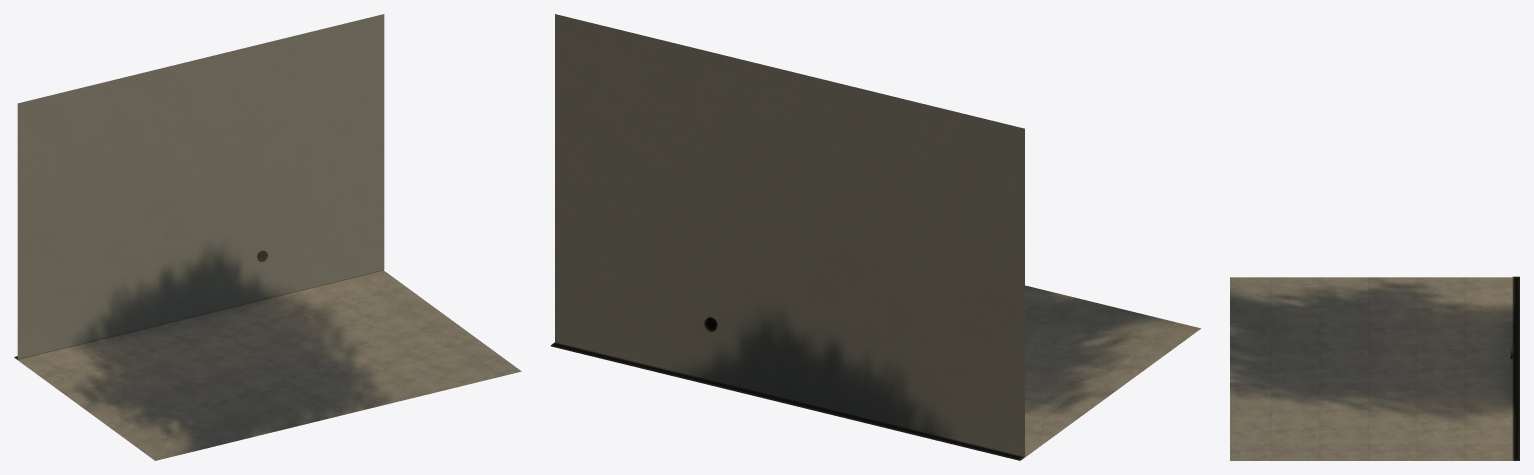
The model's file is Prova_export_6_circle_giorno.glb.
The picture shows the model from 3 angles, left to right: view 1: azimuth 30°, elevation 25°; view 2: azimuth 150°, elevation 25°; view 3: azimuth 270°, elevation 25°; orthographic projection. The views are drawn at different scales.
Visible parts, largest first — view 1: Muro, Pavimento; view 2: Muro, Pavimento; view 3: Pavimento, Muro.
Part boxes in pixels (bbox=[...]): Muro: bbox=[14, 14, 384, 359]; Pavimento: bbox=[14, 270, 521, 460]; Muro: bbox=[550, 14, 1024, 459]; Pavimento: bbox=[551, 285, 1200, 460]; Pavimento: bbox=[1230, 277, 1519, 460]; Muro: bbox=[1512, 276, 1519, 460].
Bounding box in the file's own units: 5.99 × 4.01 × 4.
4 materials, 4 textured.
